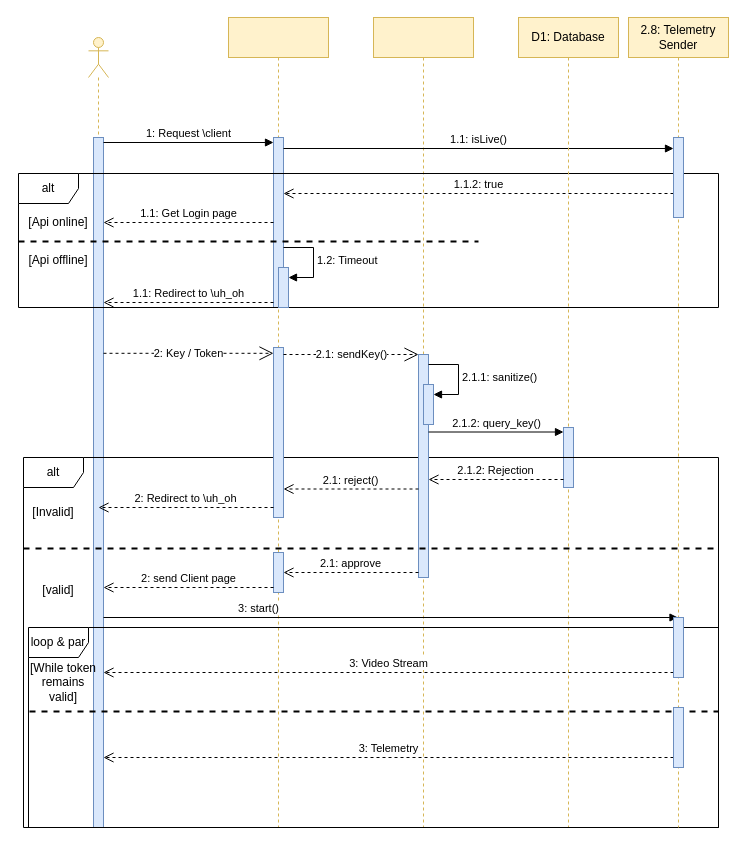
The diagram is 746 pixels wide and 845 high, and some of its shapes have lost their labels. Each missing label, with the box of its shape:
2.1: Website Host: (228, 16, 328, 828)
2.2: Token Auth: (372, 16, 474, 828)
